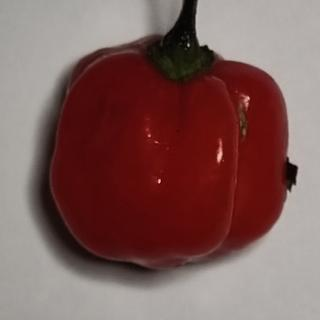Defect: (228, 100, 256, 140)
